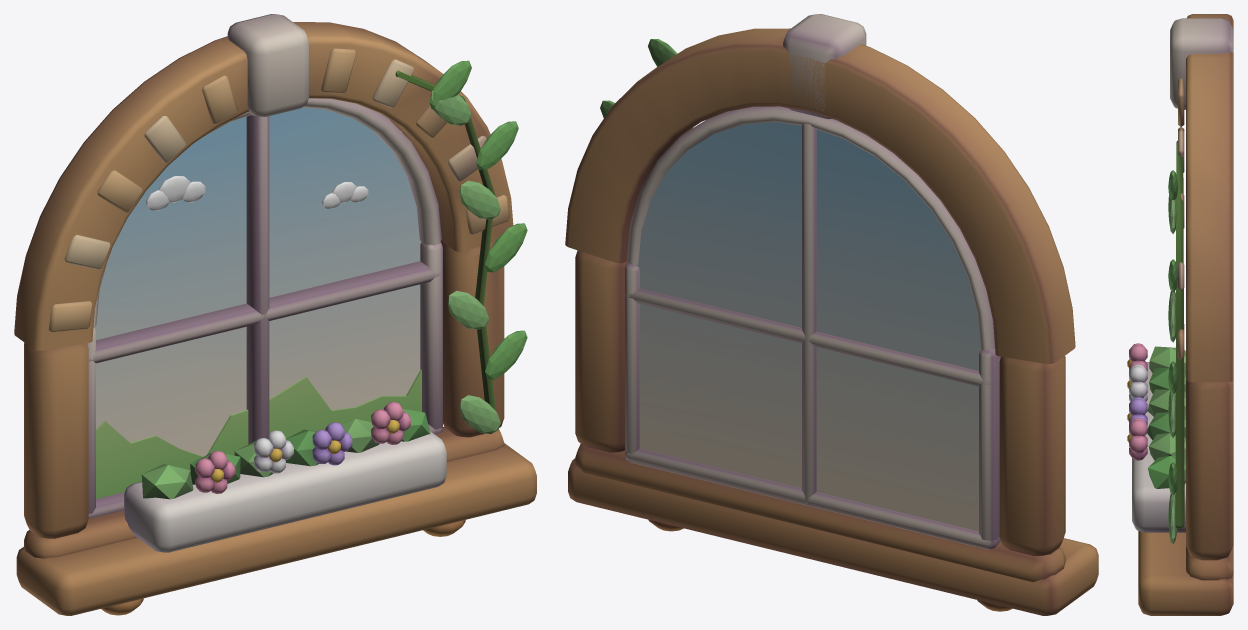
The model's file is window_garden.glb.
The picture shows the model from 3 angles, left to right: view 1: azimuth 30°, elevation 25°; view 2: azimuth 150°, elevation 25°; view 3: azimuth 270°, elevation 25°; orthographic projection. The views are drawn at different scales.
Visible parts, largest first — view 1: window_garden, window_garden_glass; view 2: window_garden, window_garden_glass; view 3: window_garden.
Part boxes in pixels (bbox=[...]): window_garden: bbox=[14, 14, 536, 615]; window_garden_glass: bbox=[94, 107, 421, 498]; window_garden: bbox=[565, 14, 1098, 615]; window_garden_glass: bbox=[630, 122, 988, 549]; window_garden: bbox=[1127, 14, 1233, 615].
Bounding box in the file's own units: 1.65 × 1.75 × 0.3339.
